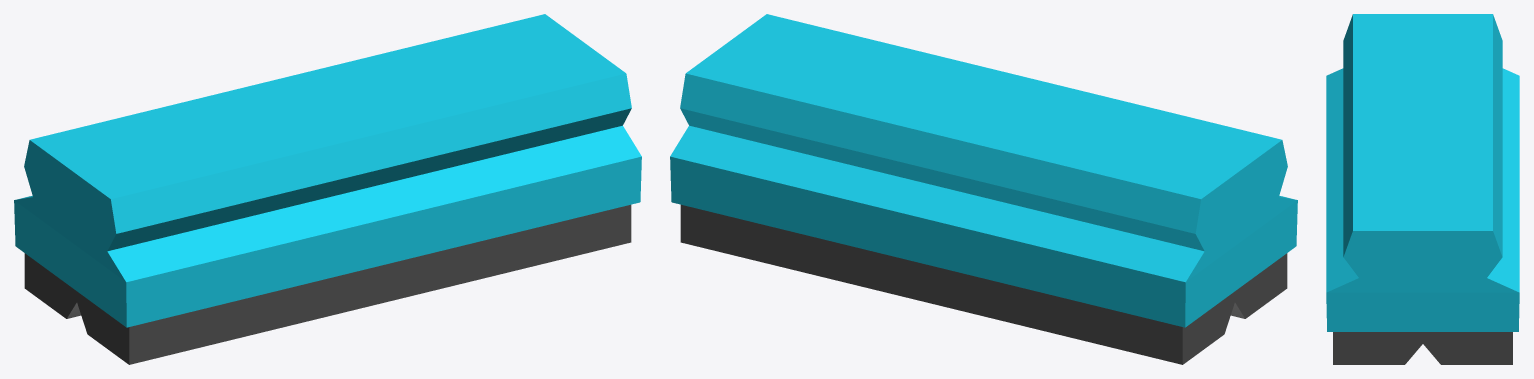
The model's file is mesh_eraser.fbx.
3 renders of one model, left to right at view 1: azimuth 30°, elevation 25°; view 2: azimuth 150°, elevation 25°; view 3: azimuth 270°, elevation 25°, orthographic. The views are drawn at different scales.
Visible parts, largest first — view 1: mesh_eraser_01; view 2: mesh_eraser_01; view 3: mesh_eraser_01.
Part boxes in pixels (x1=…): mesh_eraser_01: x1=14, y1=14, x2=641, y2=364; mesh_eraser_01: x1=670, y1=14, x2=1297, y2=364; mesh_eraser_01: x1=1326, y1=14, x2=1519, y2=364.
Bounding box in the file's own units: 8.53 × 2.51 × 3.22.
